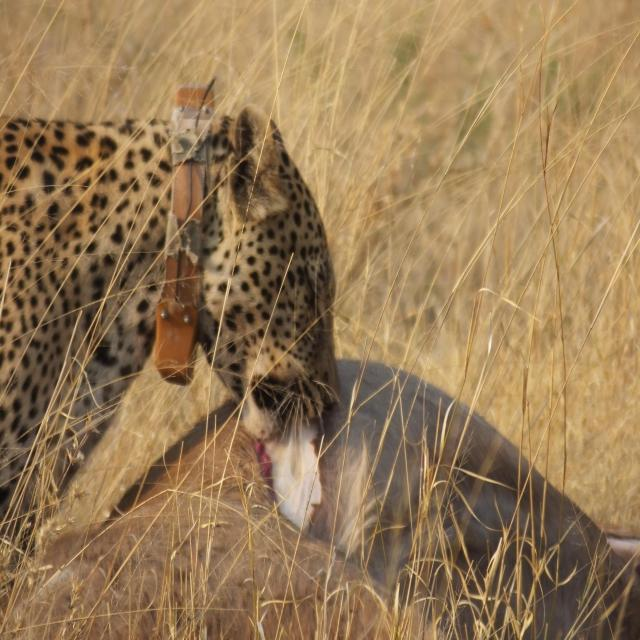Leopard: (1, 95, 340, 640)
